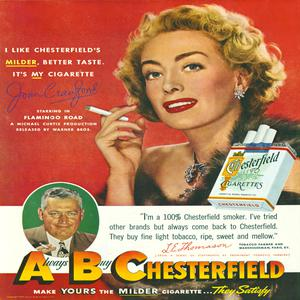cigarette: (86, 99, 134, 127), (39, 240, 52, 253)
